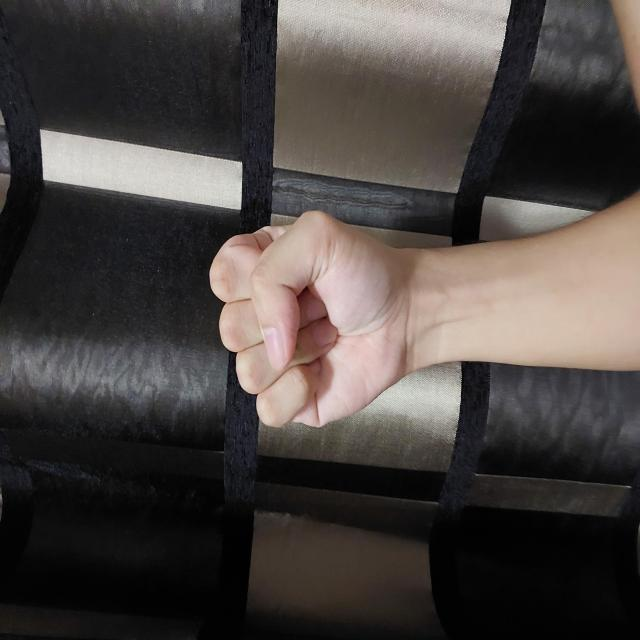S: (209, 208, 432, 412)
